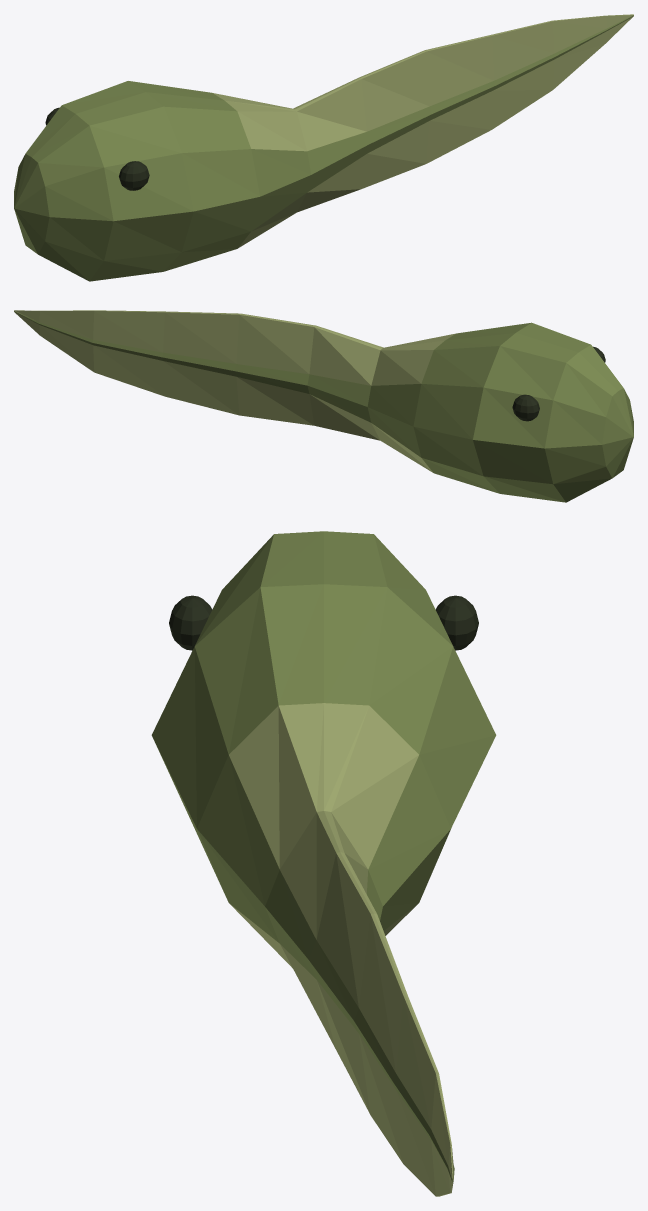
3 views of the same model, one above another, from view 1: azimuth 30°, elevation 25°; view 2: azimuth 150°, elevation 25°; view 3: azimuth 270°, elevation 25° (orthographic). The views are drawn at different scales.
Visible parts, largest first — view 1: ContinuousLarvalHeadBodyTailAndFin, LeftSmallDarkEye; view 2: ContinuousLarvalHeadBodyTailAndFin, RightSmallDarkEye; view 3: ContinuousLarvalHeadBodyTailAndFin, RightSmallDarkEye, LeftSmallDarkEye.
Part boxes in pixels (x1,y1,x2,y2): ContinuousLarvalHeadBodyTailAndFin: [14, 14, 633, 281]; LeftSmallDarkEye: [119, 161, 149, 190]; ContinuousLarvalHeadBodyTailAndFin: [14, 310, 633, 502]; RightSmallDarkEye: [512, 394, 539, 421]; ContinuousLarvalHeadBodyTailAndFin: [151, 531, 496, 1196]; RightSmallDarkEye: [435, 595, 478, 650]; LeftSmallDarkEye: [169, 595, 212, 650].
Size of the model in its own units: 1.5 by 0.3636 by 0.38.
